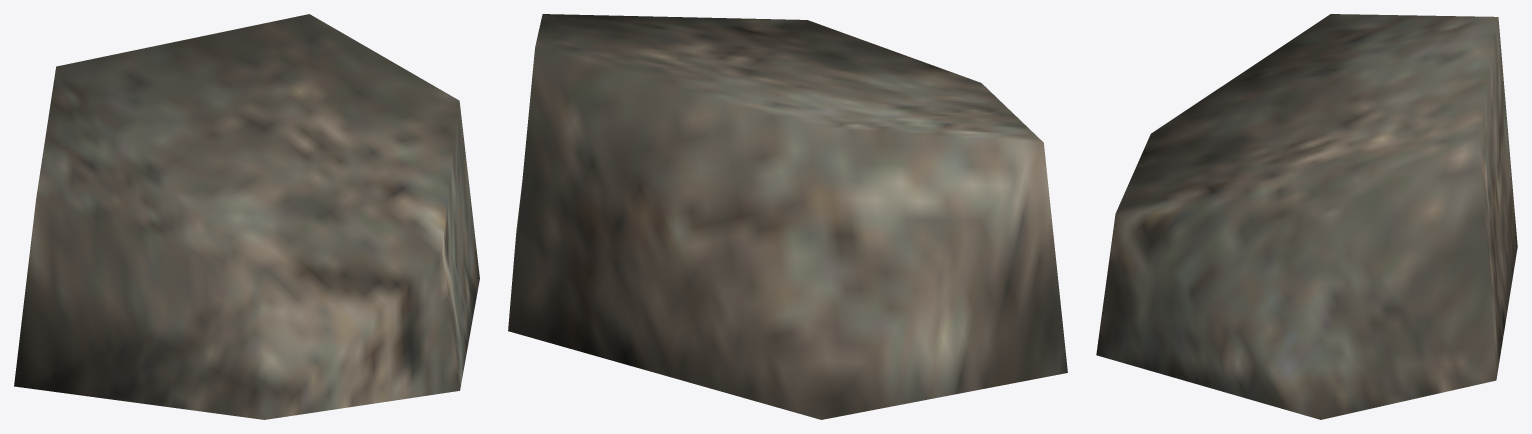
The model's file is SC_yonghengsenlin_shitou08.FBX.
3 renders of one model, left to right at view 1: azimuth 30°, elevation 25°; view 2: azimuth 150°, elevation 25°; view 3: azimuth 270°, elevation 25°, orthographic. The views are drawn at different scales.
Visible parts, largest first — view 1: SC_yonghengsenlin_shitou08; view 2: SC_yonghengsenlin_shitou08; view 3: SC_yonghengsenlin_shitou08.
Part boxes in pixels (bbox=[...]): SC_yonghengsenlin_shitou08: bbox=[14, 14, 479, 419]; SC_yonghengsenlin_shitou08: bbox=[508, 14, 1067, 419]; SC_yonghengsenlin_shitou08: bbox=[1096, 14, 1517, 419].
Bounding box in the file's own units: 87.94 × 42.11 × 68.35.
